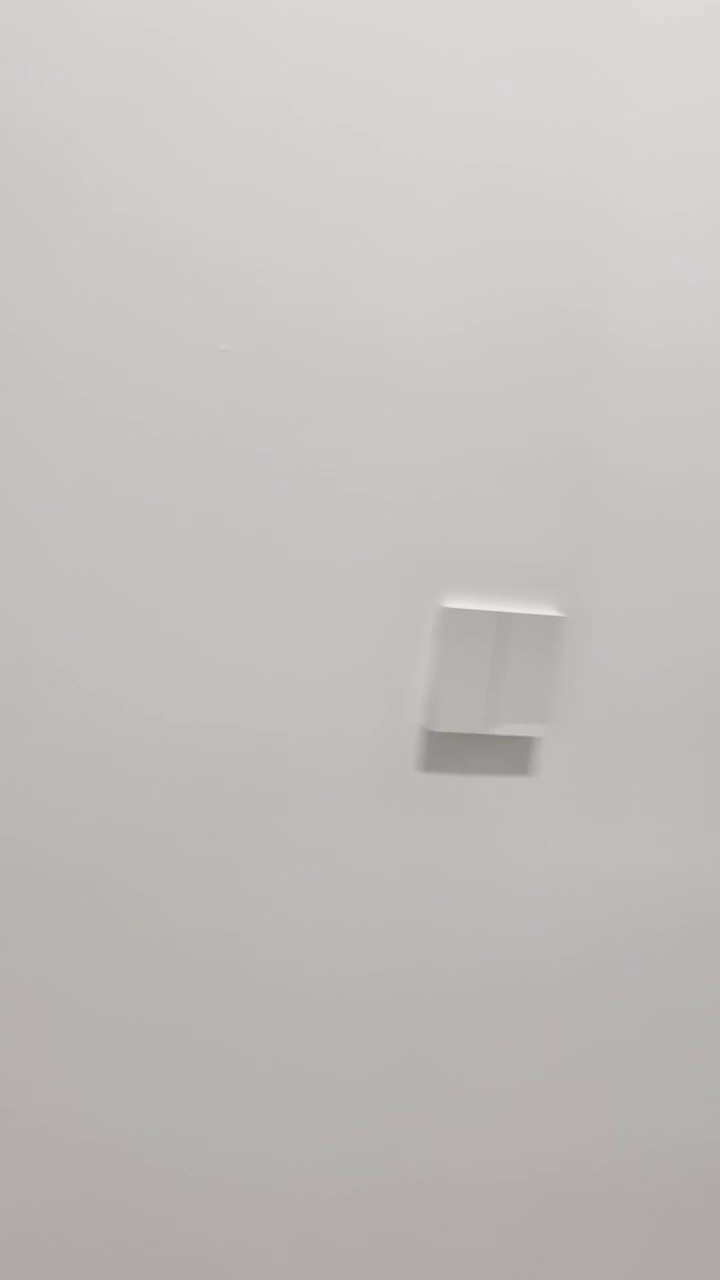button: (414, 598, 562, 742)
